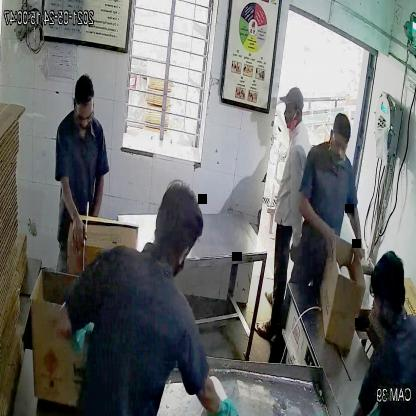goggles: (329, 136, 352, 154)
